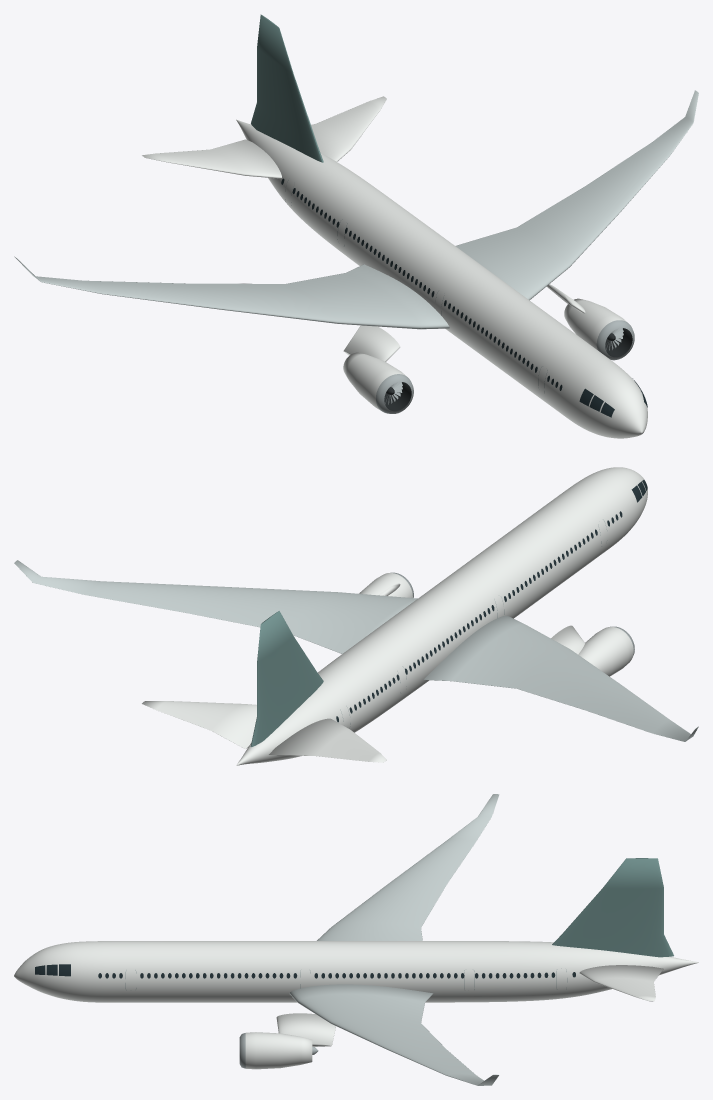
File: melb-aircraft.glb
3 views of the same model, one above another, from view 1: azimuth 30°, elevation 25°; view 2: azimuth 150°, elevation 25°; view 3: azimuth 270°, elevation 25° (orthographic). The views are drawn at different scales.
Visible parts, largest first — view 1: MELB_Longhaul_Exterior.001; view 2: MELB_Longhaul_Exterior.001; view 3: MELB_Longhaul_Exterior.001.
Boxes of the visible parts, box(x1,y1,x2,y2) form: MELB_Longhaul_Exterior.001: box(14, 14, 698, 438); MELB_Longhaul_Exterior.001: box(14, 467, 698, 765); MELB_Longhaul_Exterior.001: box(14, 794, 698, 1085).
Bounding box in the file's own units: 64.75 × 17.62 × 66.8.
